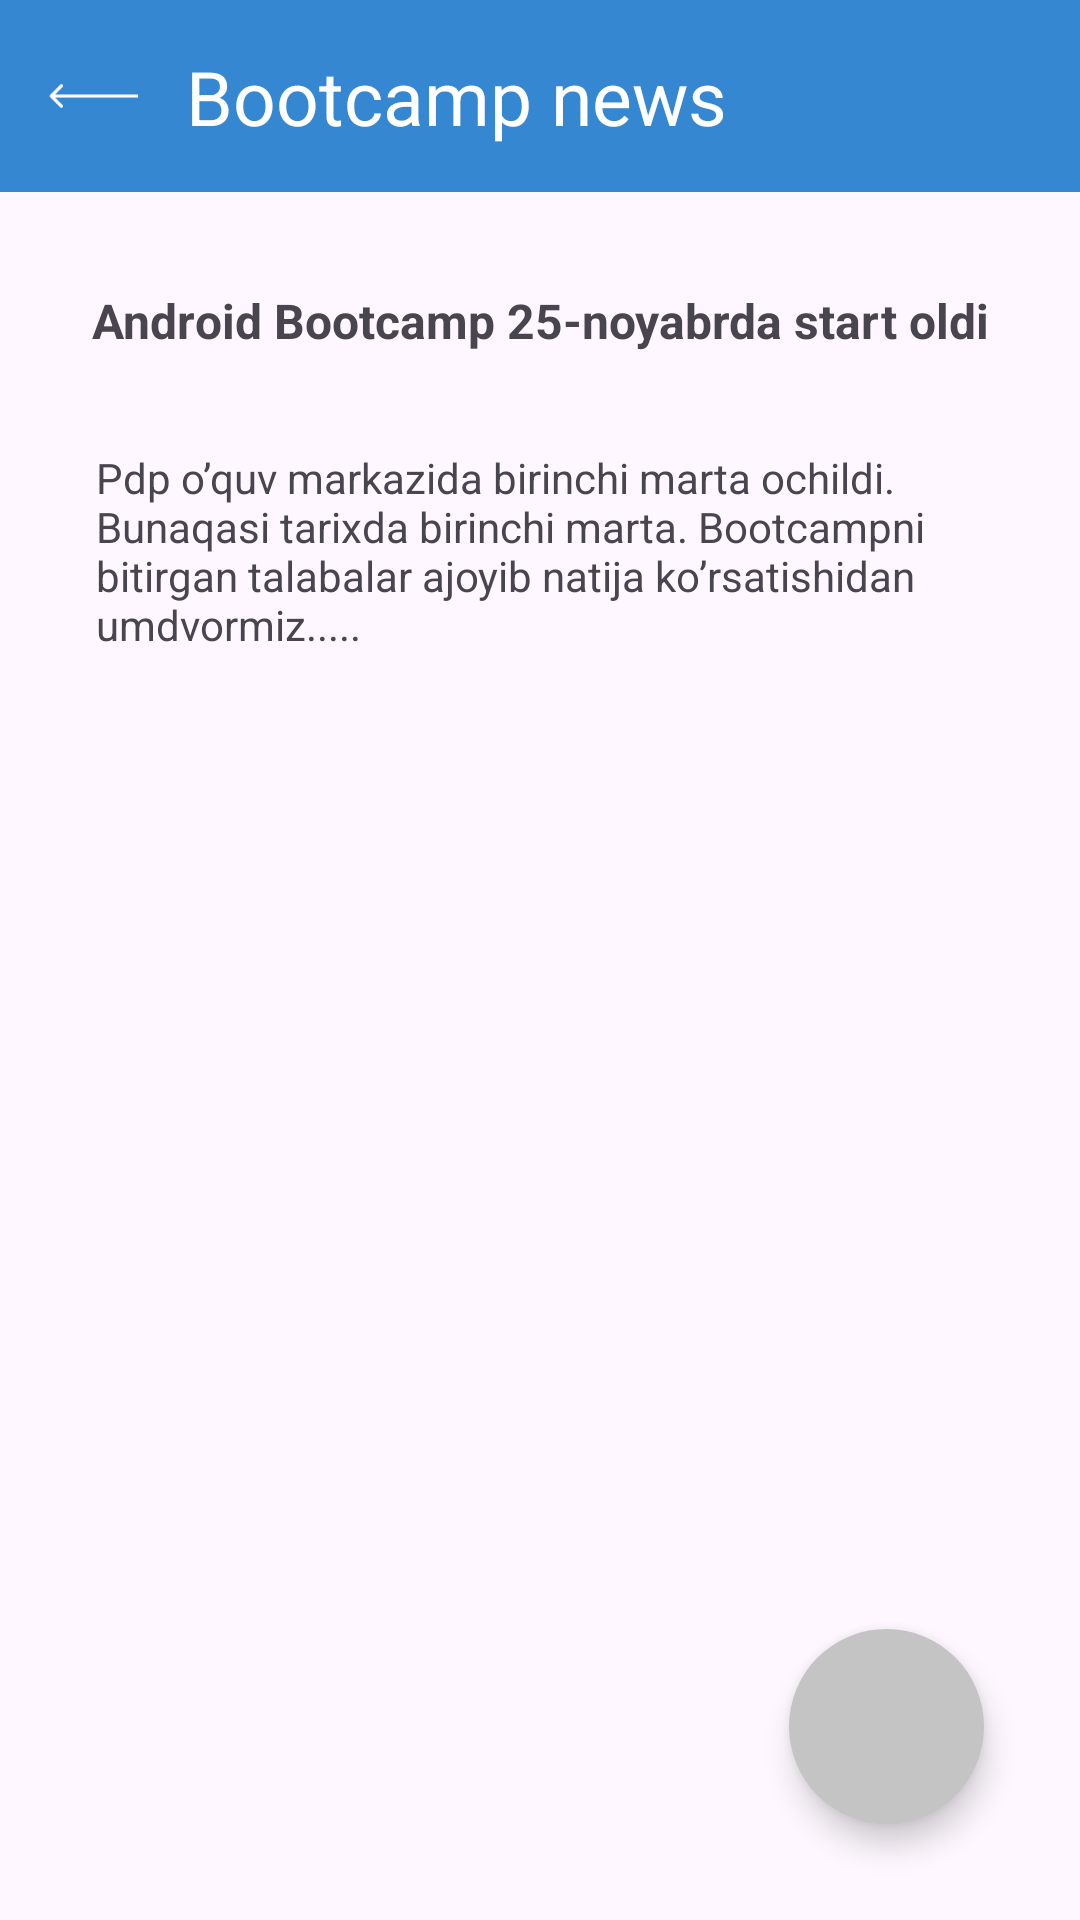

Icon click points for this 1080 x 1920 phone screenshot, format (x,y):
arrow: (93,96)
